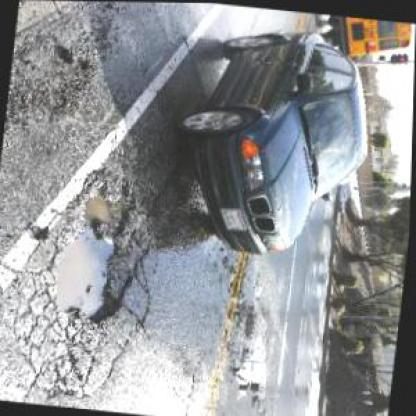pothole: (51, 174, 147, 324)
